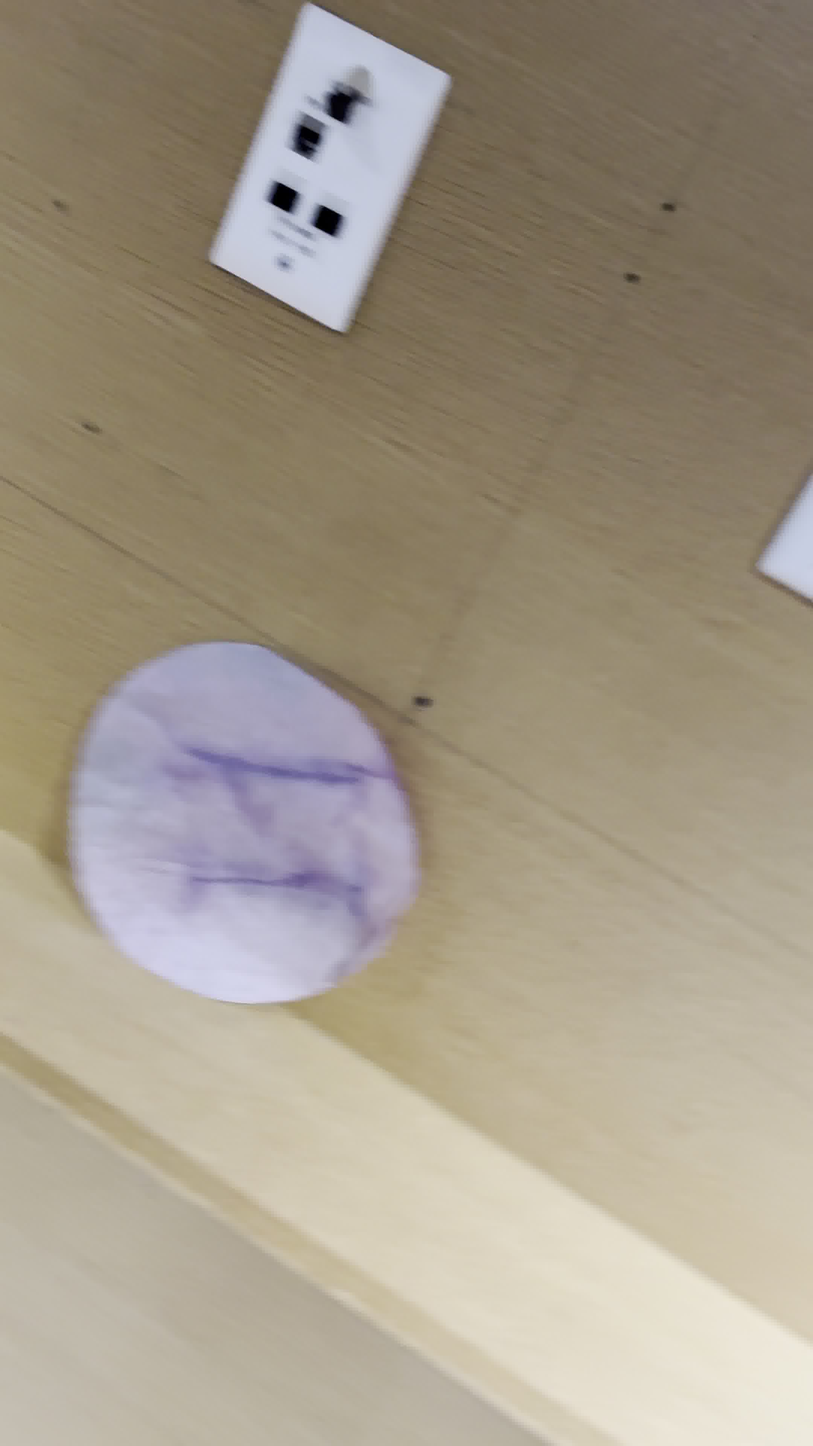Target: (71, 641, 417, 1006)
